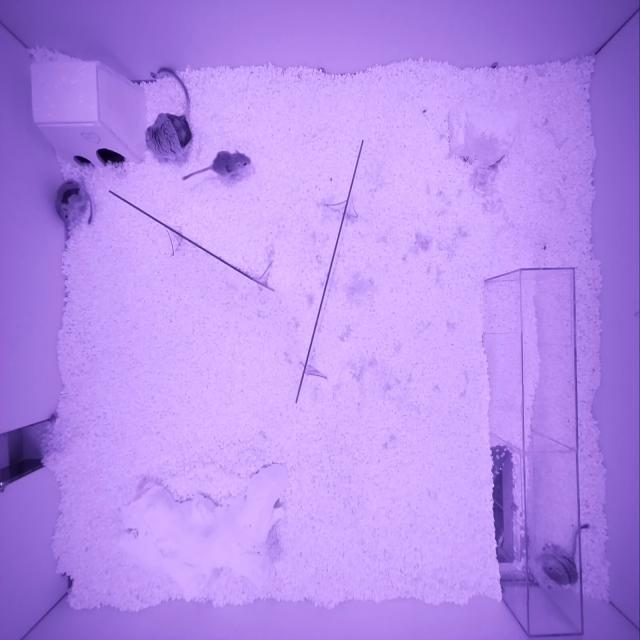adult_back: (145, 112, 192, 159)
pup_h_stripe: (546, 555, 578, 585)
pup_spotted: (212, 150, 251, 176)
pup_v_stripe: (55, 180, 83, 221)
